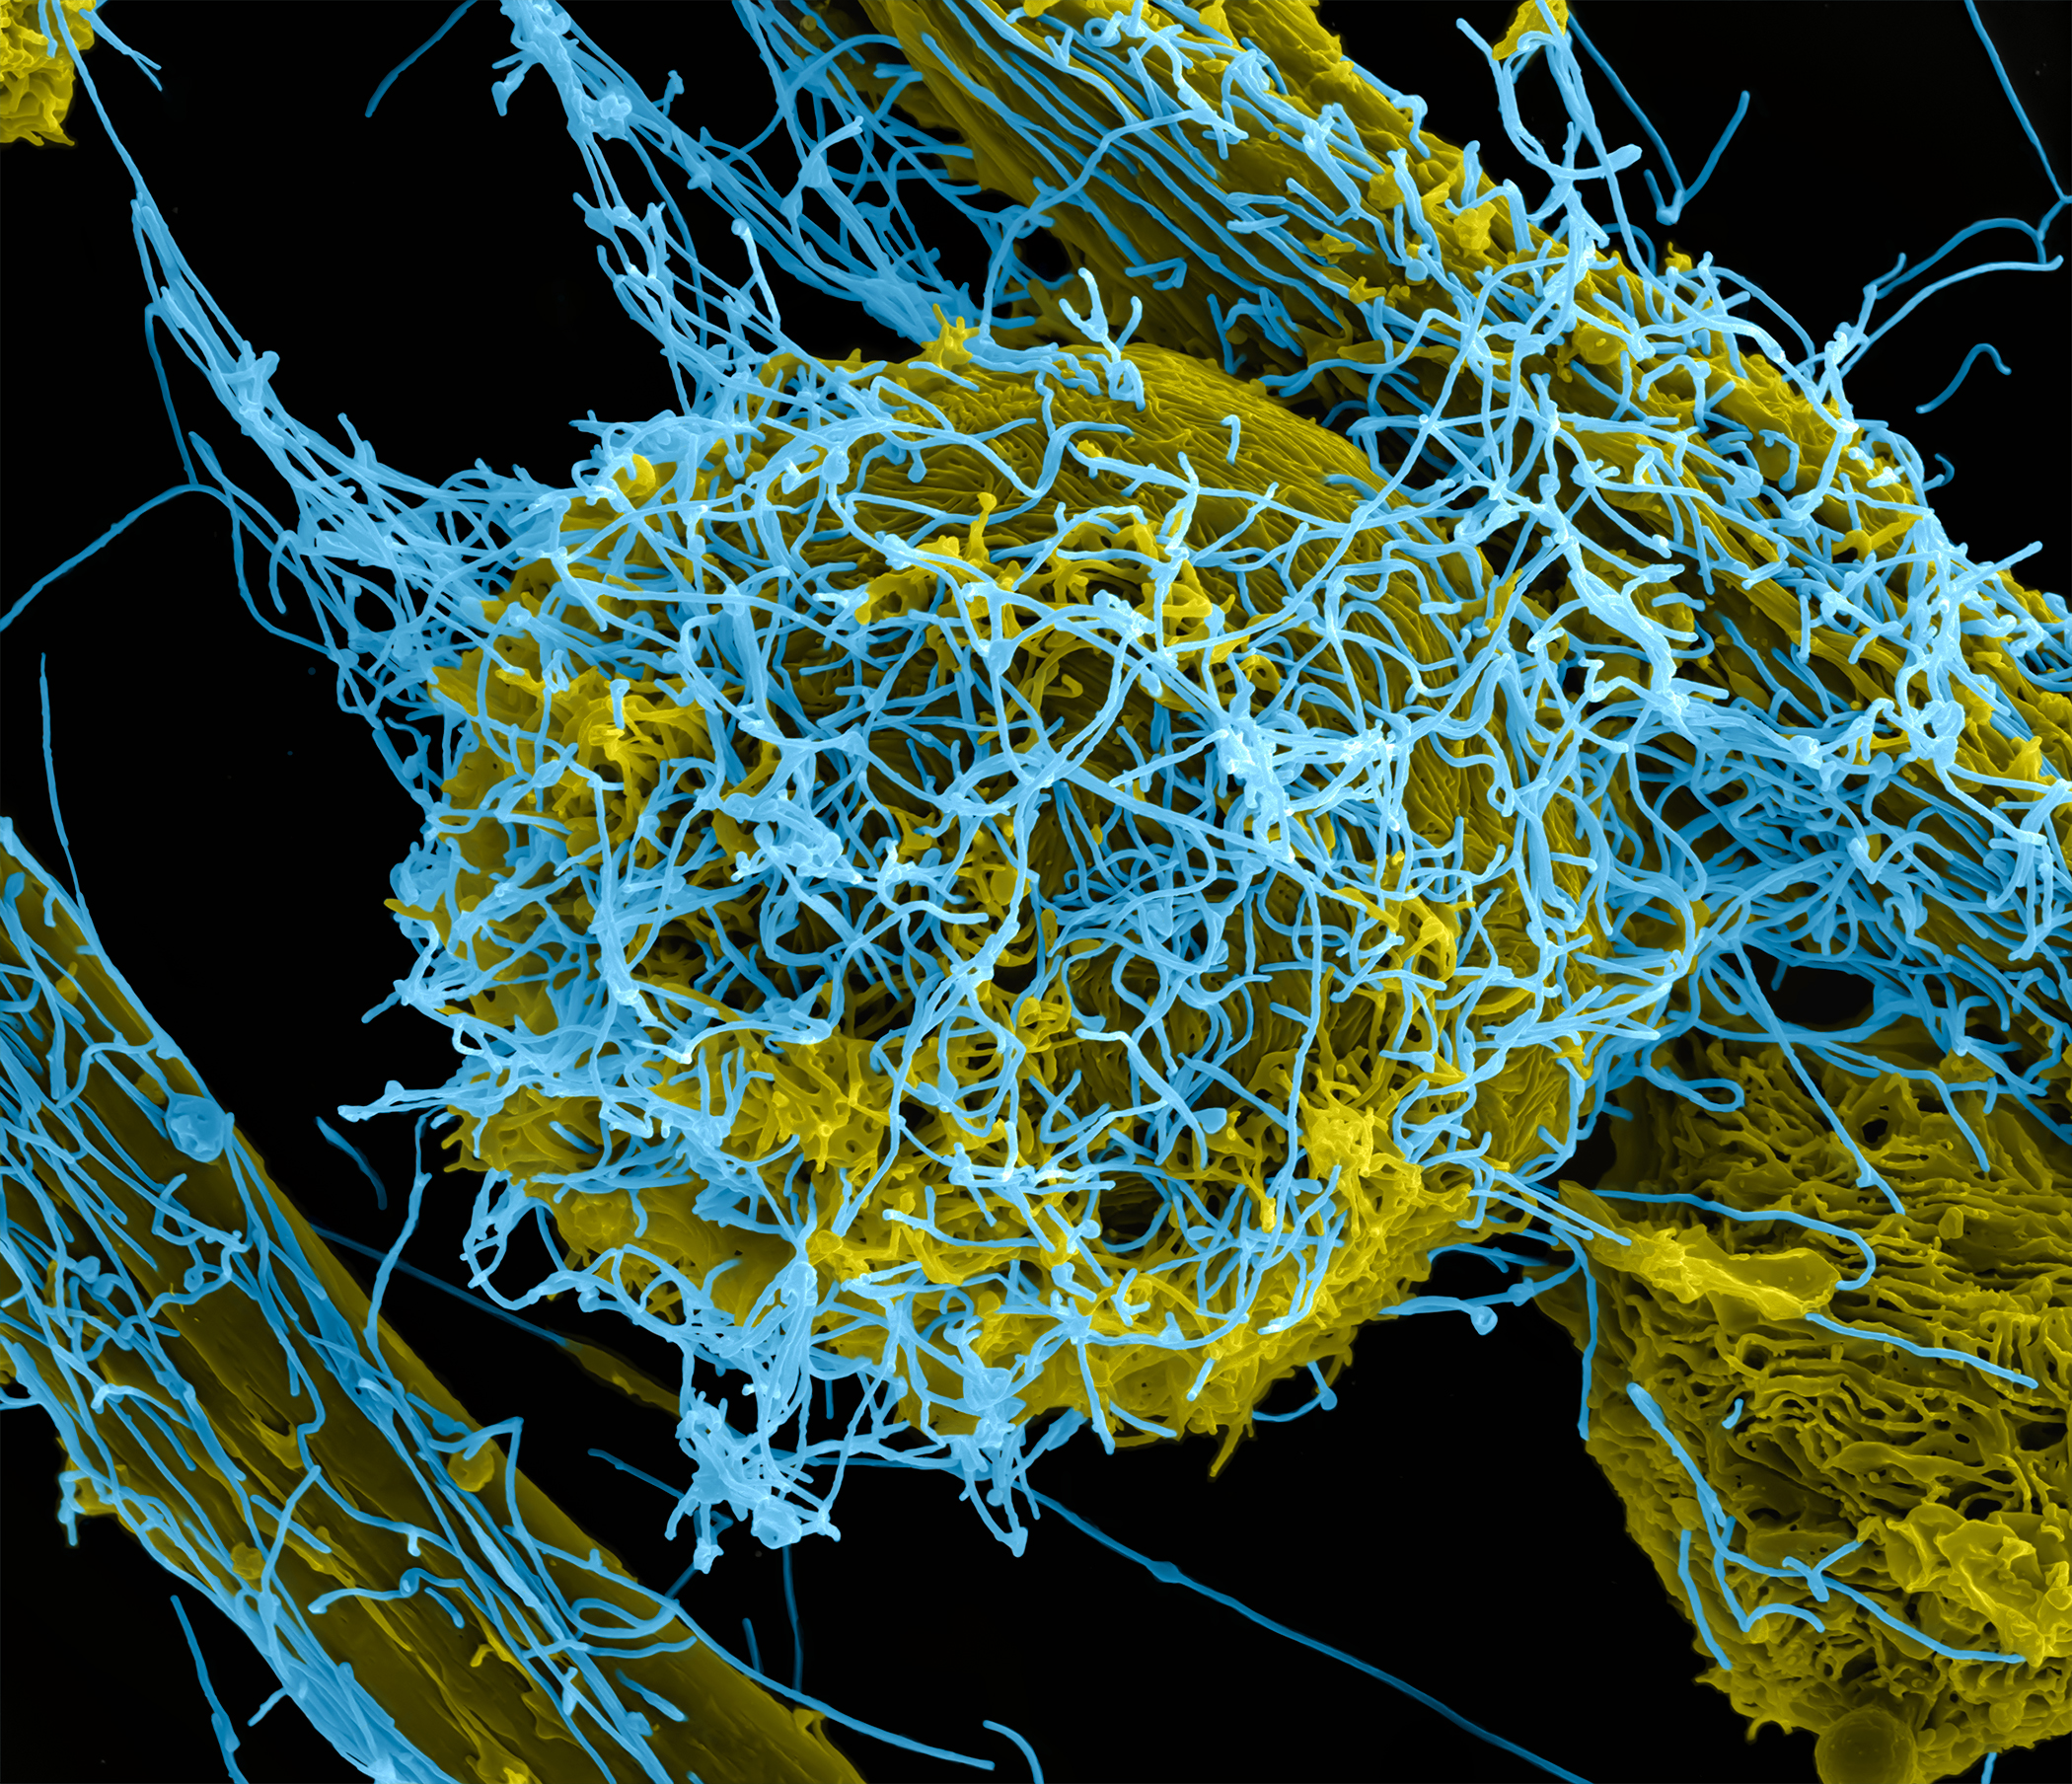EBOLA: (93, 319, 1639, 1387)
